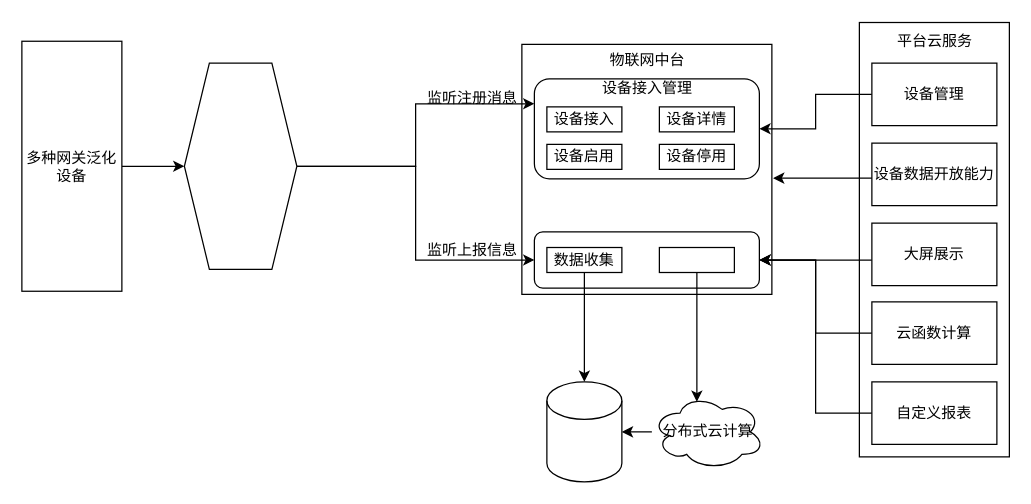
Some shapes in this 1031 by 504 pixel diagram are drawn without their labels. Each missing label, with the centre of its shape:
MQTT服务: [240,165]
大数据分布式存储: [584,431]
数据分析: [696,259]
